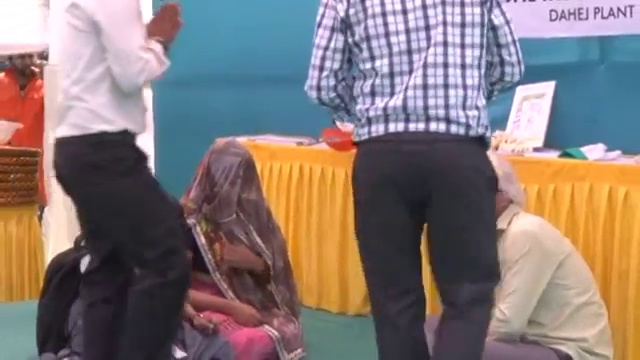helmet: (0, 114, 28, 147)
helmet_off: (191, 142, 255, 213), (6, 49, 31, 80)
person: (306, 0, 519, 356), (50, 0, 187, 360), (185, 131, 301, 354), (484, 182, 620, 360), (1, 46, 49, 150)
